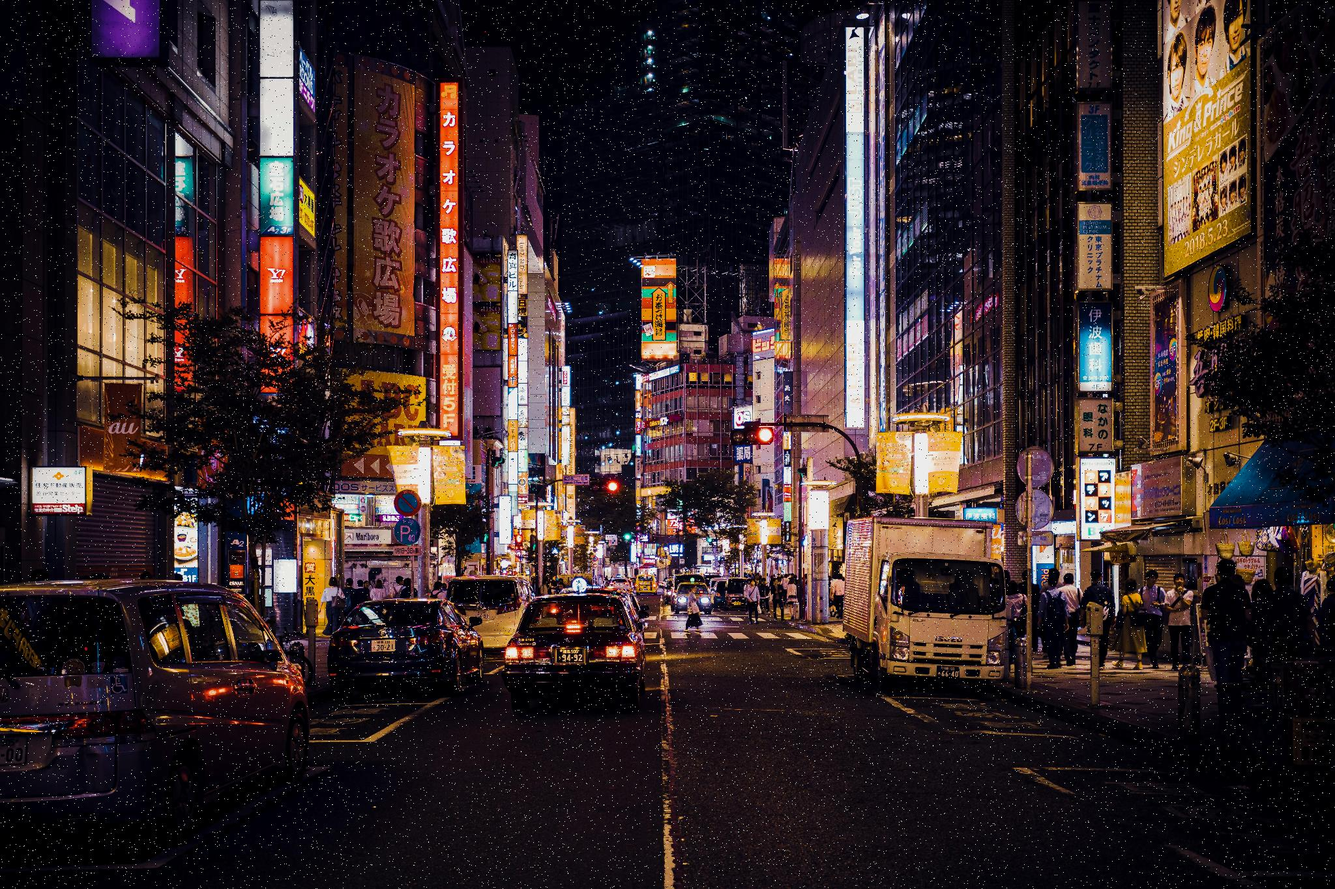car: (0, 574, 310, 834), (504, 596, 651, 714), (328, 597, 484, 688), (446, 577, 521, 612)
pedestrian: (1256, 578, 1317, 700), (1200, 559, 1253, 686), (1165, 569, 1199, 673), (1038, 588, 1078, 672), (1138, 570, 1164, 670), (1115, 585, 1144, 668), (1316, 580, 1334, 654)
